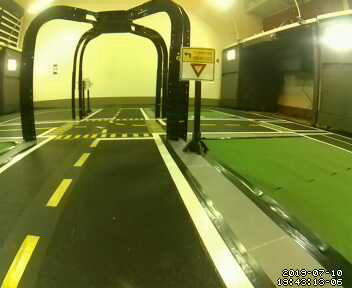Turn Yield: (180, 47, 213, 81)
